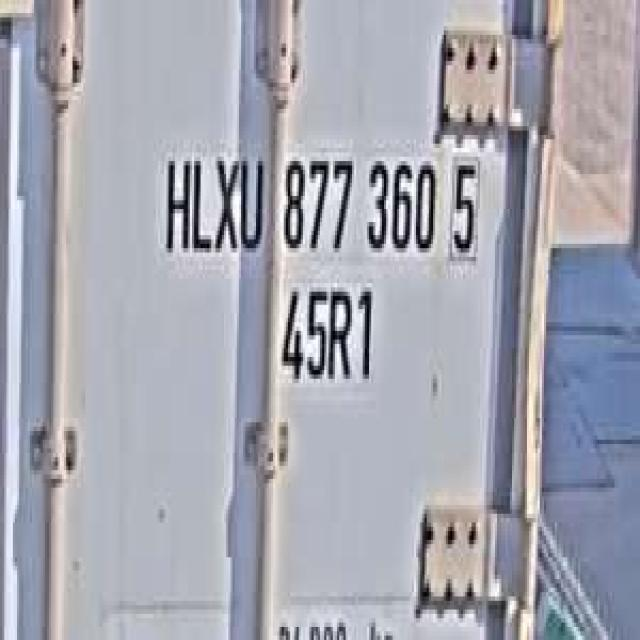dv: (444, 144, 484, 266)
owner: (156, 135, 264, 270)
serial: (278, 139, 440, 266)
size: (275, 274, 380, 396)
